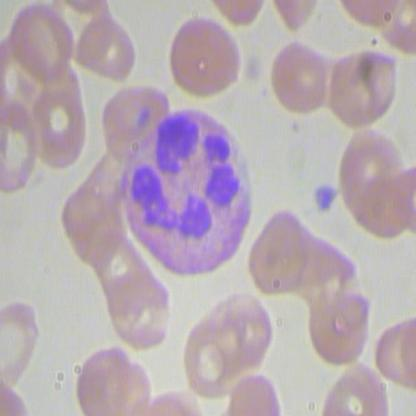Platelets: (312, 180, 342, 218)
RBC: (335, 125, 411, 247), (302, 273, 375, 366), (209, 287, 282, 379), (326, 39, 398, 132), (166, 14, 242, 102), (242, 206, 314, 298), (105, 262, 176, 354), (74, 339, 154, 415), (29, 81, 94, 172), (268, 32, 329, 118), (75, 8, 135, 86), (313, 359, 392, 415)
WBC: (118, 100, 258, 282)
